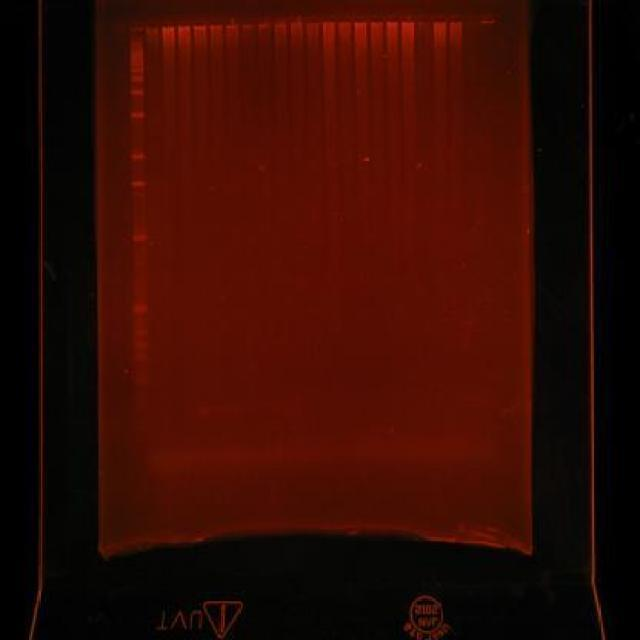L: (104, 4, 500, 38)
M: (128, 21, 147, 417)
P: (131, 372, 147, 386), (130, 304, 148, 316), (130, 233, 148, 242), (132, 178, 146, 188), (131, 328, 147, 336), (131, 353, 147, 361), (130, 111, 144, 120), (130, 74, 144, 83), (130, 152, 144, 160), (130, 88, 144, 96), (130, 66, 144, 74), (131, 341, 147, 348), (130, 62, 144, 66)
Pc: (464, 12, 480, 26), (304, 15, 320, 28), (224, 18, 240, 31), (109, 20, 126, 32), (399, 14, 416, 26), (370, 13, 384, 27), (321, 15, 336, 28), (337, 15, 352, 28), (433, 14, 449, 26), (192, 20, 208, 32), (256, 18, 272, 30), (479, 13, 496, 24), (448, 14, 463, 26), (417, 14, 432, 26), (161, 20, 176, 32), (353, 16, 369, 27), (289, 17, 305, 28), (273, 17, 289, 28), (208, 20, 224, 31), (386, 14, 400, 26), (241, 19, 256, 30), (129, 22, 145, 32), (178, 20, 192, 31), (146, 22, 160, 32)
